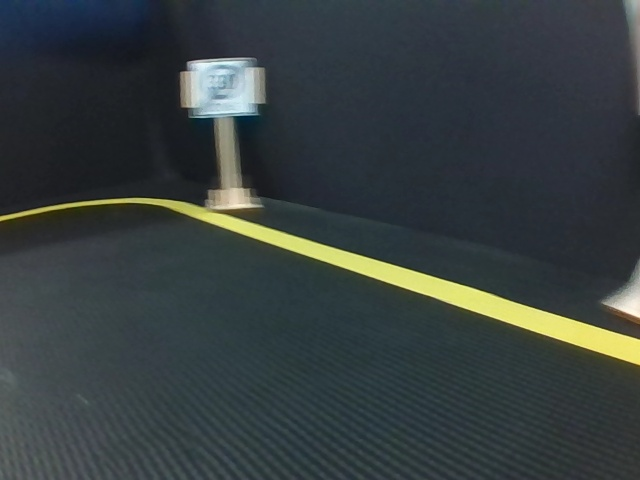no30: (193, 60, 254, 115)
